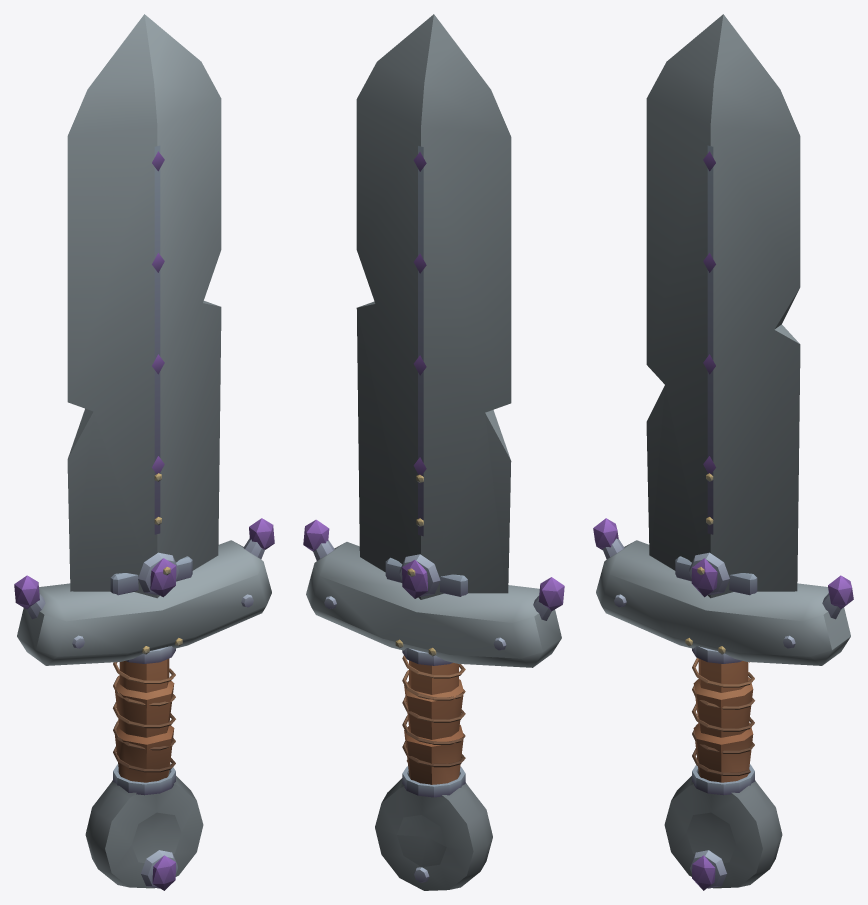
Rendered from espada_runica_t3.glb.
3 views of the same model, side by side, from view 1: azimuth 30°, elevation 25°; view 2: azimuth 150°, elevation 25°; view 3: azimuth 330°, elevation 25° (orthographic).
Parts seen in each view (by area): view 1: espada_runica_t3_finished; view 2: espada_runica_t3_finished; view 3: espada_runica_t3_finished.
Boxes of the visible parts, x1,y1,x2,y2 form: espada_runica_t3_finished: (14,14,274,890); espada_runica_t3_finished: (303,14,564,890); espada_runica_t3_finished: (593,14,853,890).
Size of the model in its own units: 0.5483 by 1.78 by 0.1747.
Materials: 2 (2 with a texture image).
